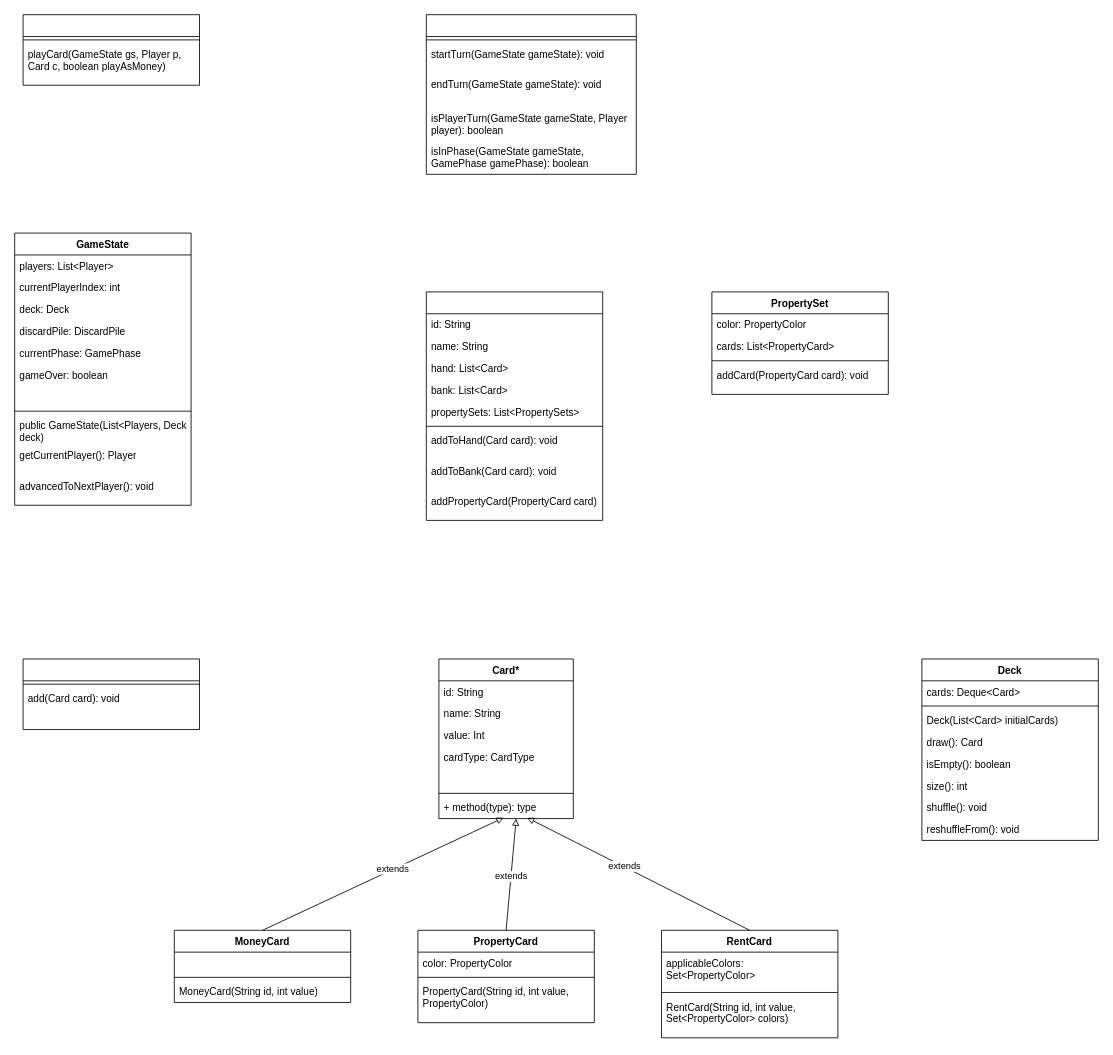
The diagram is 1113 pixels wide and 1055 high, and some of its shapes have lost their labels. The box of each missing label's shape, as (x1, y1, x2, y2) in pixels:
CardActionService: (22, 14, 200, 85)
DiscardPile: (22, 658, 200, 730)
Player: (425, 291, 603, 520)
TurnManager: (425, 14, 636, 174)
